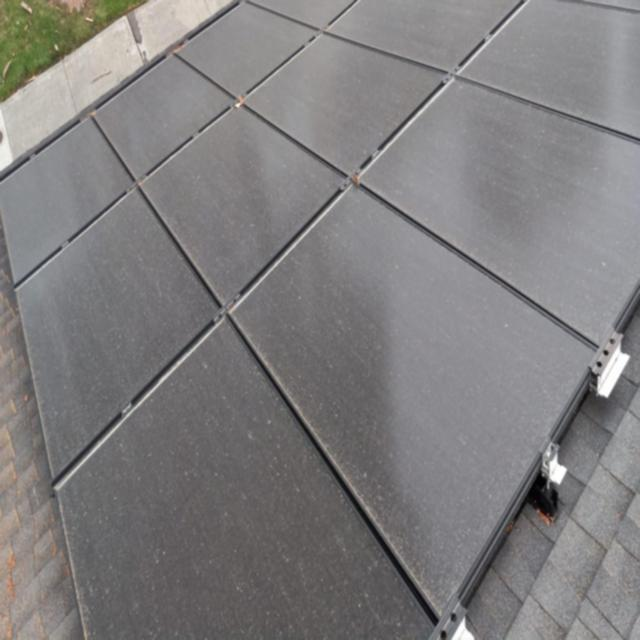soiled: (11, 4, 640, 637)
